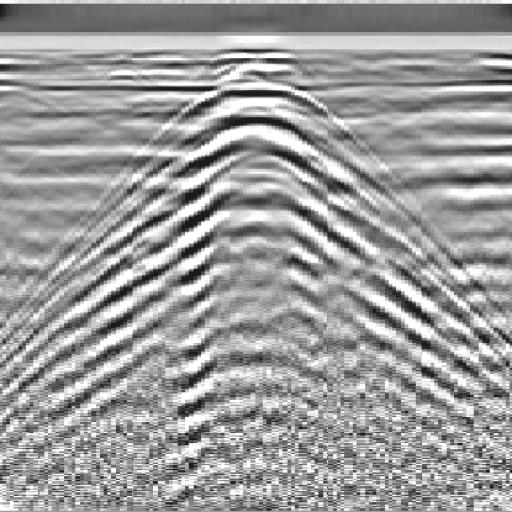metalic: (42, 48, 493, 432)
